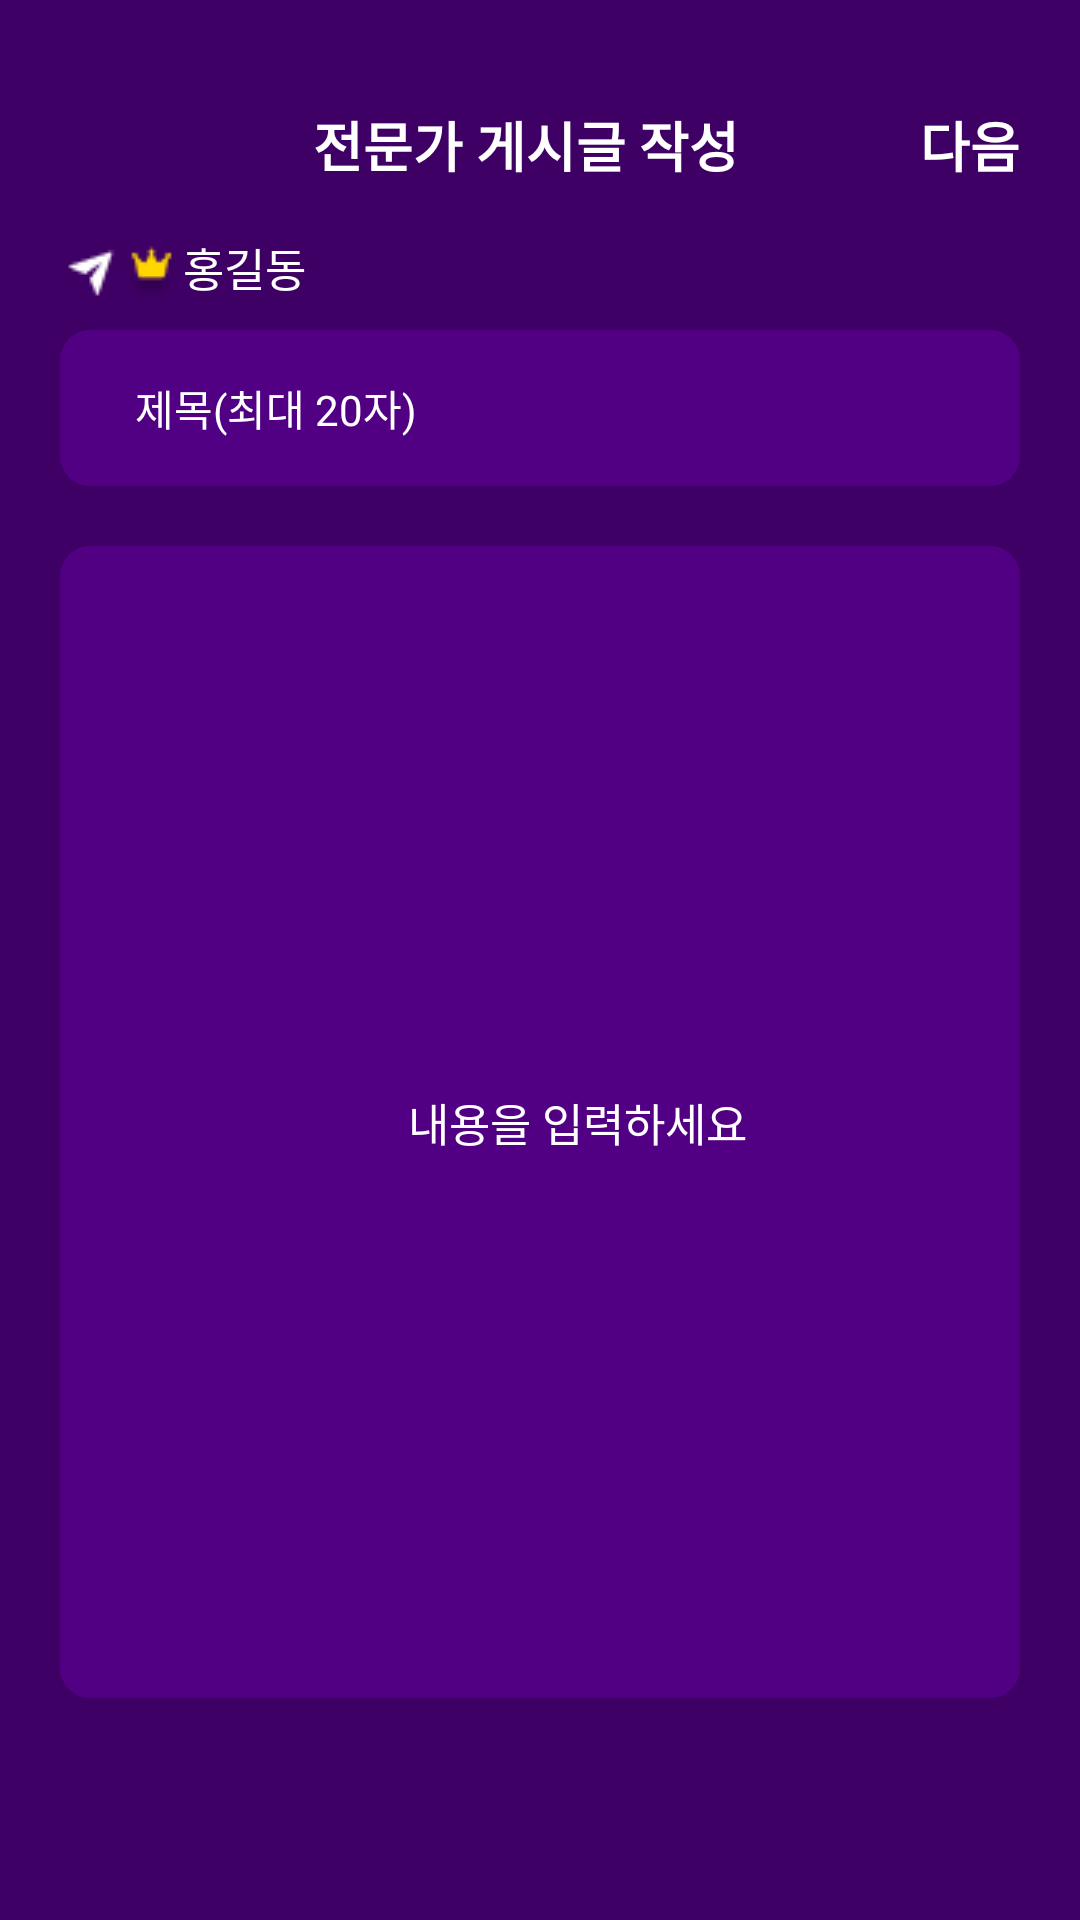

Screen size 1080px x 1920px. Icon name, then its box in pixels as rect(x1, y1, x2, y2):
crown: rect(131, 247, 172, 280)
share: rect(68, 250, 114, 296)
